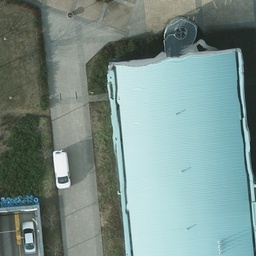car: (45, 155, 79, 189), (13, 219, 47, 253)
